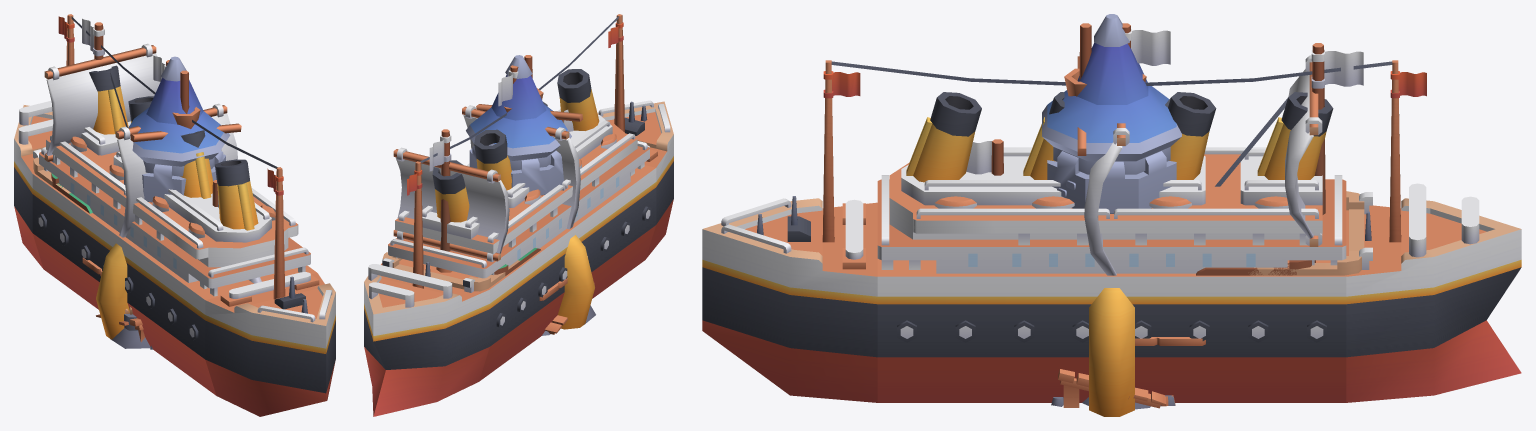
The model's file is kit.glb.
3 views of the same model, side by side, from view 1: azimuth 30°, elevation 25°; view 2: azimuth 150°, elevation 25°; view 3: azimuth 270°, elevation 25° (orthographic). The views are drawn at different scales.
Parts seen in each view (by area): view 1: ship-ocean-liner, sail-b, tower-complete-large, sail-a, gate, tower-complete-small, ship-wreck, ship-large, rocks-a, sail-a.001, flag-c; view 2: ship-ocean-liner, sail-b, tower-complete-large, gate, ship-large, sail-a, tower-complete-small, ship-wreck, flag-c, flag-b, sail-a.001; view 3: ship-ocean-liner, tower-complete-large, gate, tower-complete-small, ship-large, sail-b, ship-wreck, sail-a, flag-c, flag-b, ramp-wide, flag-a.
Part boxes in pixels (left/top/right/bottom): ship-ocean-liner: left=14, top=14, right=335, bottom=416; sail-b: left=44, top=43, right=160, bottom=162; tower-complete-large: left=128, top=56, right=230, bottom=176; sail-a: left=115, top=103, right=237, bottom=237; gate: left=96, top=243, right=129, bottom=339; tower-complete-small: left=124, top=150, right=225, bottom=202; ship-wreck: left=51, top=70, right=217, bottom=275; ship-large: left=33, top=22, right=261, bottom=283; rocks-a: left=110, top=313, right=150, bottom=348; sail-a.001: left=130, top=123, right=241, bottom=141; flag-c: left=82, top=18, right=104, bottom=56; ship-ocean-liner: left=364, top=14, right=673, bottom=416; sail-b: left=393, top=147, right=509, bottom=262; tower-complete-large: left=466, top=55, right=571, bottom=170; gate: left=558, top=235, right=594, bottom=329; ship-large: left=382, top=65, right=558, bottom=300; sail-a: left=462, top=105, right=580, bottom=229; tower-complete-small: left=469, top=146, right=563, bottom=195; ship-wreck: left=494, top=55, right=567, bottom=288; flag-c: left=429, top=134, right=451, bottom=171; flag-b: left=498, top=70, right=518, bottom=106; sail-a.001: left=476, top=104, right=582, bottom=121; ship-ocean-liner: left=702, top=60, right=1521, bottom=402; tower-complete-large: left=1042, top=14, right=1181, bottom=174; gate: left=1089, top=288, right=1134, bottom=416; tower-complete-small: left=1047, top=151, right=1176, bottom=213; ship-large: left=1122, top=23, right=1364, bottom=345; sail-b: left=1285, top=55, right=1322, bottom=246; ship-wreck: left=991, top=23, right=1315, bottom=345; sail-a: left=1084, top=123, right=1129, bottom=275; flag-c: left=1311, top=50, right=1363, bottom=88; flag-b: left=1124, top=29, right=1170, bottom=65; ramp-wide: left=1058, top=369, right=1166, bottom=408; flag-a: left=966, top=141, right=991, bottom=174.
Bounding box in the file's own units: 6.2 × 10.52 × 21.28.
49 materials, 34 textured.
